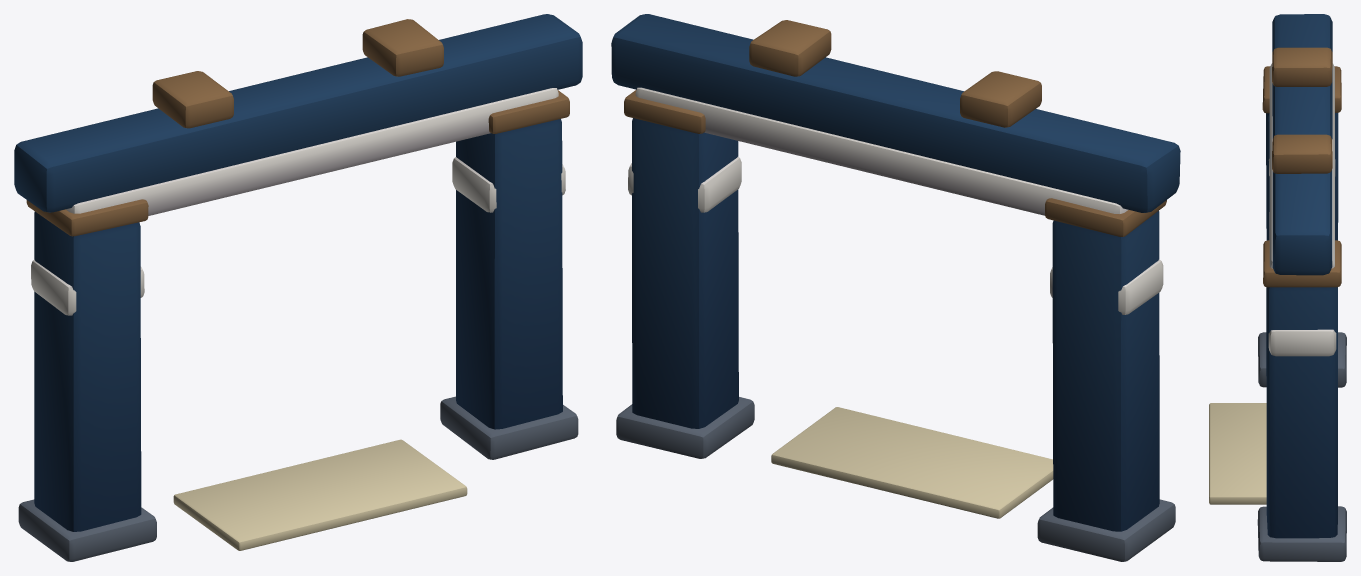
The picture shows the model from 3 angles, left to right: view 1: azimuth 30°, elevation 25°; view 2: azimuth 150°, elevation 25°; view 3: azimuth 270°, elevation 25°; orthographic projection. The views are drawn at different scales.
Visible parts, largest first — view 1: gate_937610d5; view 2: gate_937610d5; view 3: gate_937610d5.
Part boxes in pixels (x1,y1,x2,y2): gate_937610d5: [14, 14, 582, 561]; gate_937610d5: [611, 14, 1180, 561]; gate_937610d5: [1209, 14, 1346, 561].
Bounding box in the file's own units: 5.67 × 4.24 × 1.48.
